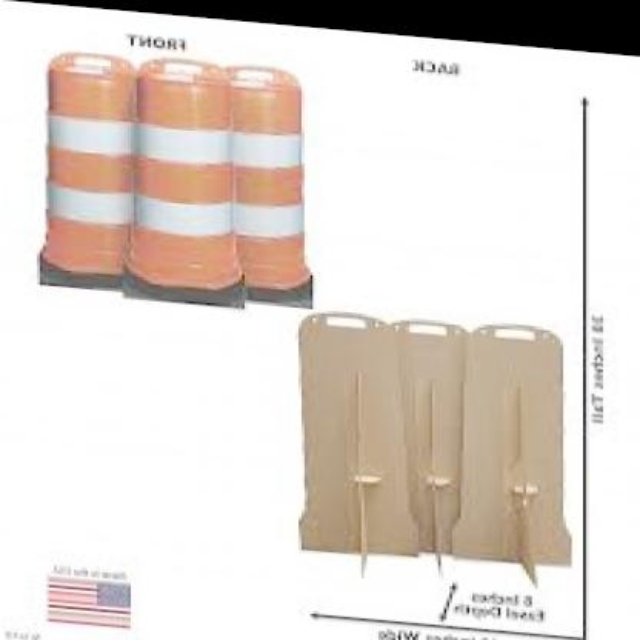obstacle: (117, 54, 239, 290), (43, 37, 134, 280), (242, 51, 307, 289)
